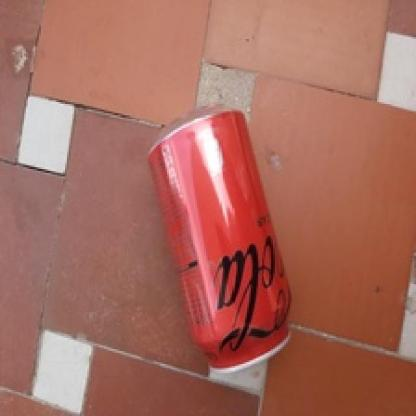Can: (146, 106, 296, 374)
